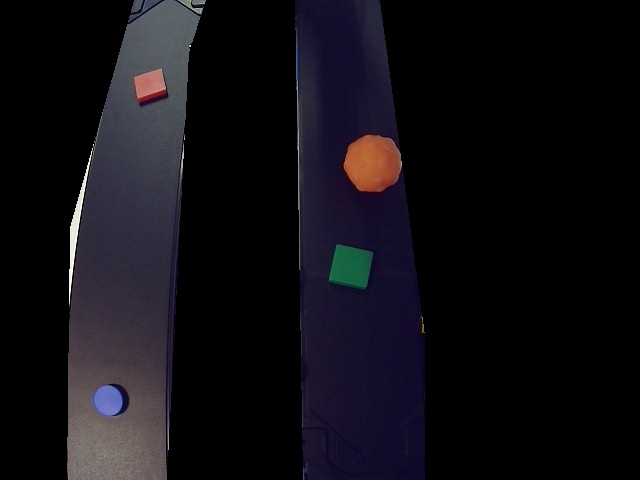Blue_Circle: (93, 386, 125, 416)
Green_Square: (324, 244, 378, 291)
Red_Square: (130, 66, 167, 104)
Unknown: (342, 130, 402, 194)
